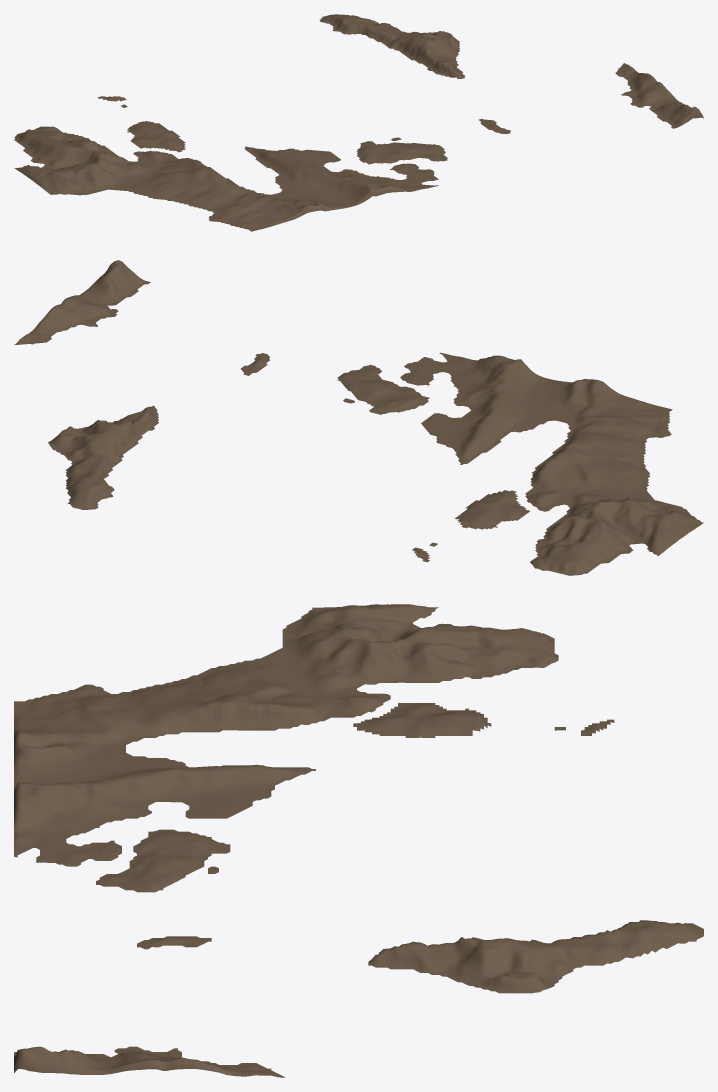
File: Terrain_Full.fbx
3 renders of one model, top to bottom at view 1: azimuth 30°, elevation 25°; view 2: azimuth 150°, elevation 25°; view 3: azimuth 270°, elevation 25°, orthographic. The views are drawn at different scales.
Parts seen in each view (by area): view 1: TerrainNew; view 2: TerrainNew; view 3: TerrainNew.
Boxes of the visible parts, <box> form: TerrainNew: <box>14,14,703,231</box>; TerrainNew: <box>14,260,703,575</box>; TerrainNew: <box>14,604,703,1077</box>.
Bounding box in the file's own units: 22980 × 544 × 14251.
